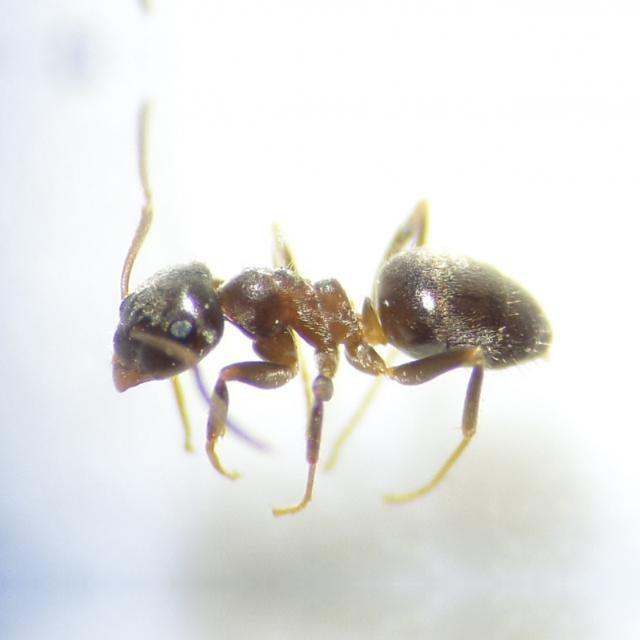Lasius: (80, 234, 538, 434)
